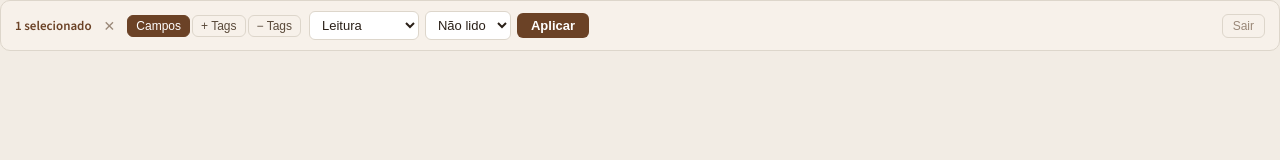
Test: BulkActionBar › switching to add_tags mode shows tag input
The width and height of the screenshot is (1280, 160).
Click the button "+ Tags": coordinates (219, 26) x1=192 y1=14 x2=246 y2=36
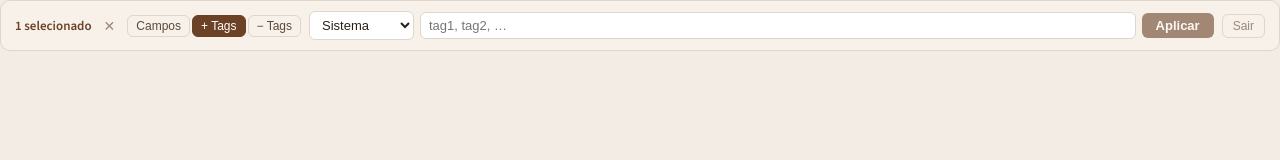
Now the field named "tags" is shown, box x1=420 y1=12 x2=1136 y2=39
